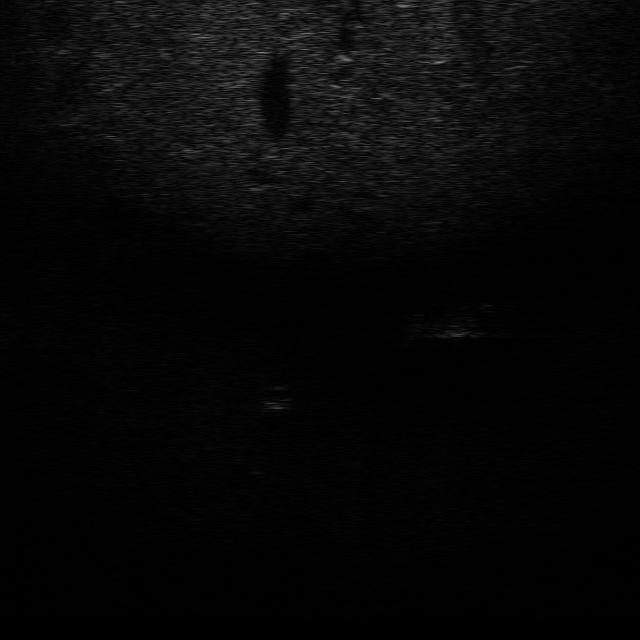ball: (256, 381, 300, 410)
human body: (398, 304, 507, 344)
